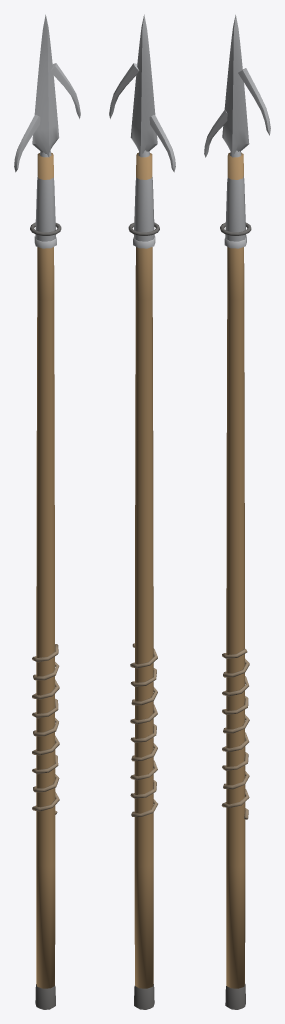
Rendered from harpoon.glb.
The picture shows the model from 3 angles, left to right: view 1: azimuth 30°, elevation 25°; view 2: azimuth 150°, elevation 25°; view 3: azimuth 330°, elevation 25°; orthographic projection.
Parts seen in each view (by area): view 1: harpoon; view 2: harpoon; view 3: harpoon.
Boxes of the visible parts, bbox=[...] form: harpoon: bbox=[14, 14, 80, 1009]; harpoon: bbox=[109, 14, 175, 1009]; harpoon: bbox=[204, 14, 270, 1009].
Bounding box in the file's own units: 0.327 × 4.73 × 0.1322.
